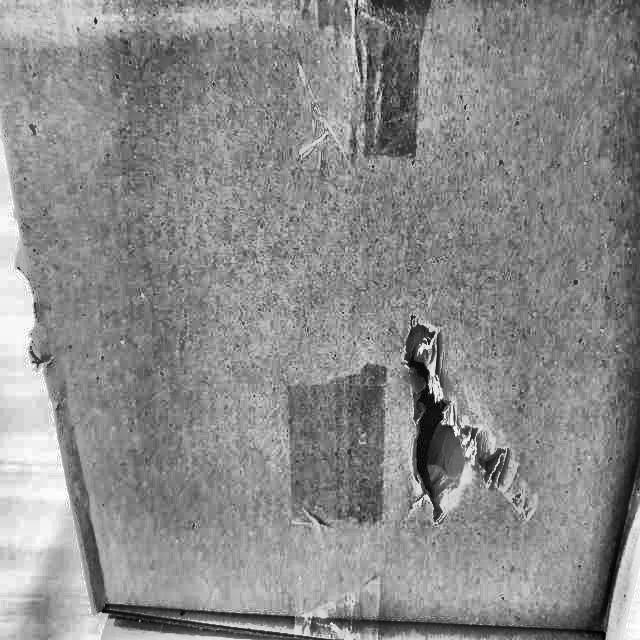box: (0, 0, 639, 639)
hole: (398, 318, 520, 526)
